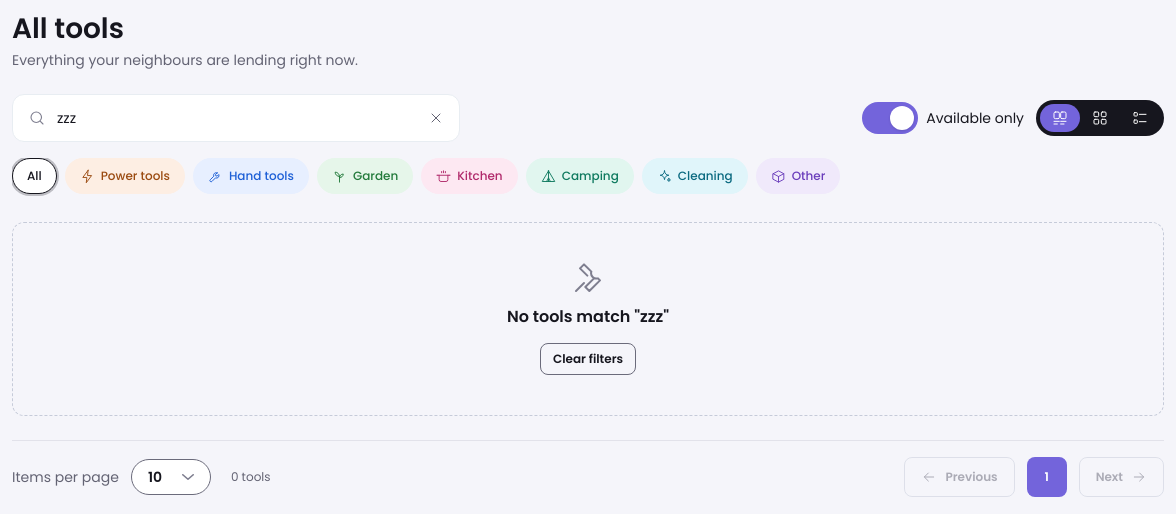
Test: ToolsScreen (the board) › filtered with no results offers to clear the filters
Expected: the text "No tools match \"zzz\"" is shown, left=507, top=307, right=669, bottom=327
Click the button "Clear filters": (588, 359) left=540, top=343, right=636, bottom=375
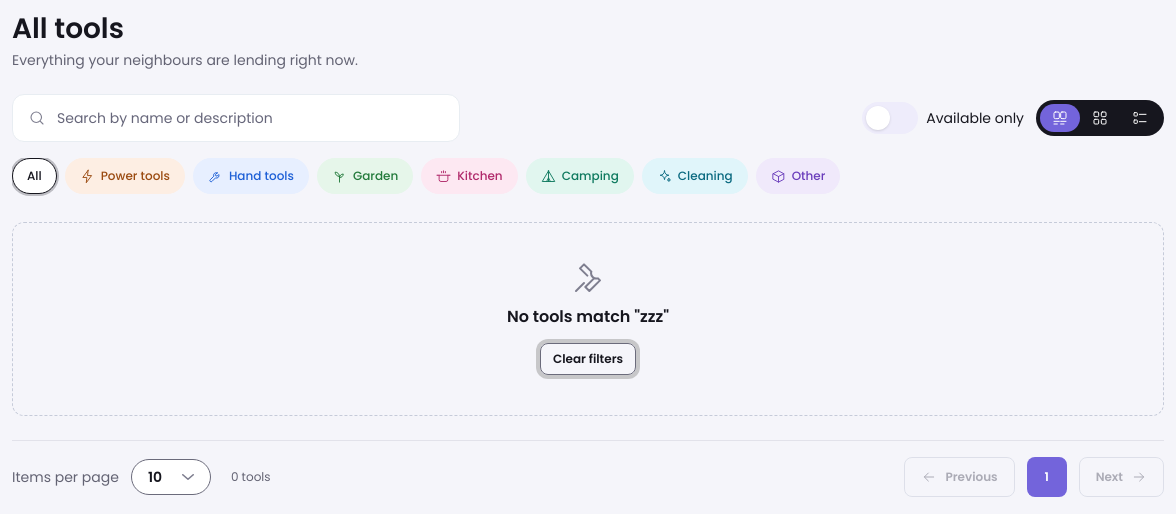
Result: the search field named "Search tools" is empty at left=12, top=94, right=460, bottom=142
